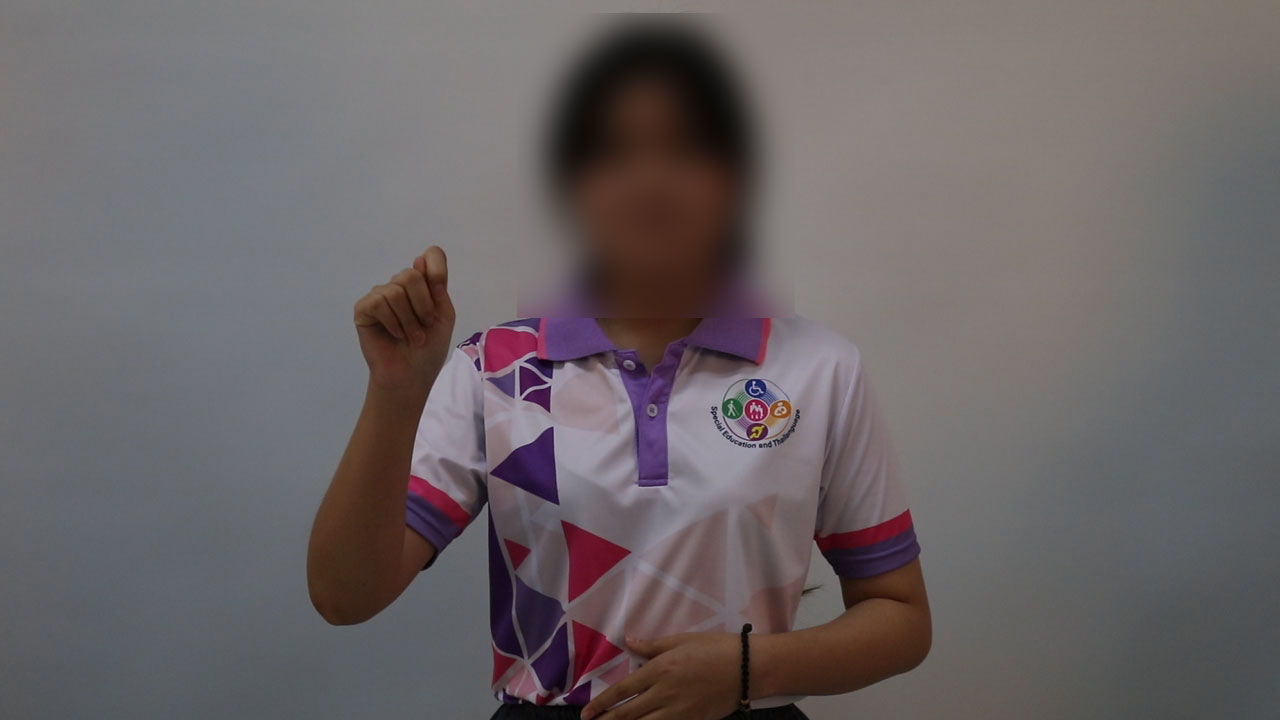tor: (343, 239, 468, 399)
